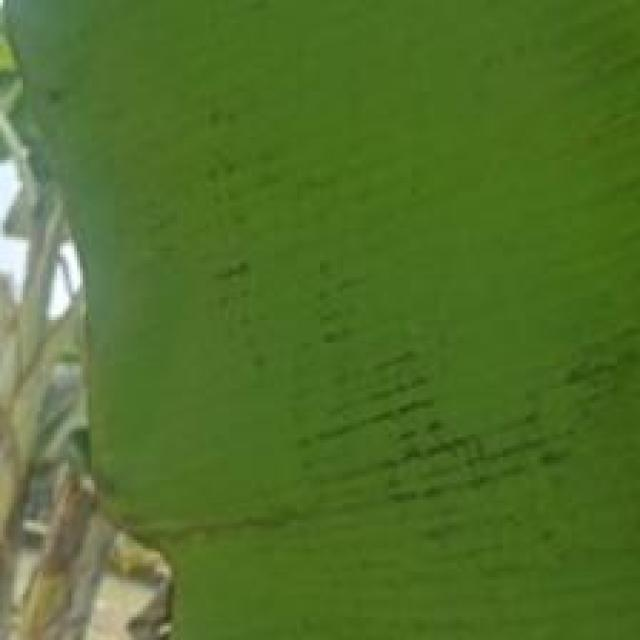Black_leaf_spot: (0, 0, 630, 628)
